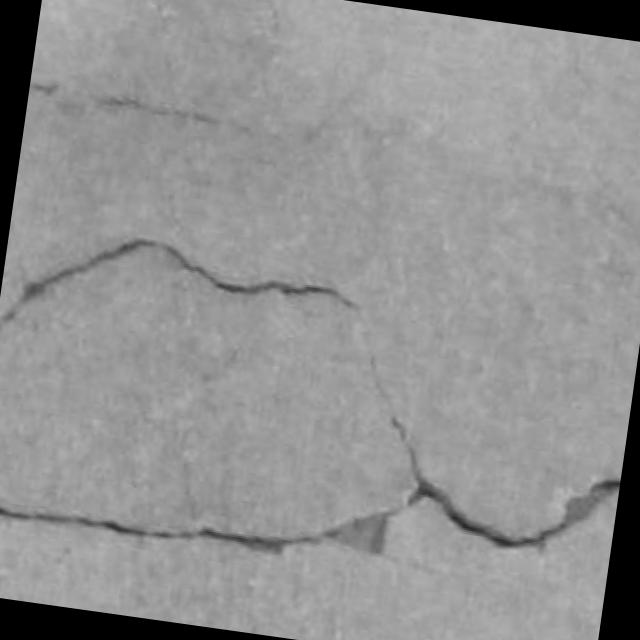crack: (368, 351, 620, 548), (0, 238, 354, 329), (0, 504, 402, 555), (80, 94, 248, 131), (92, 95, 219, 125)
